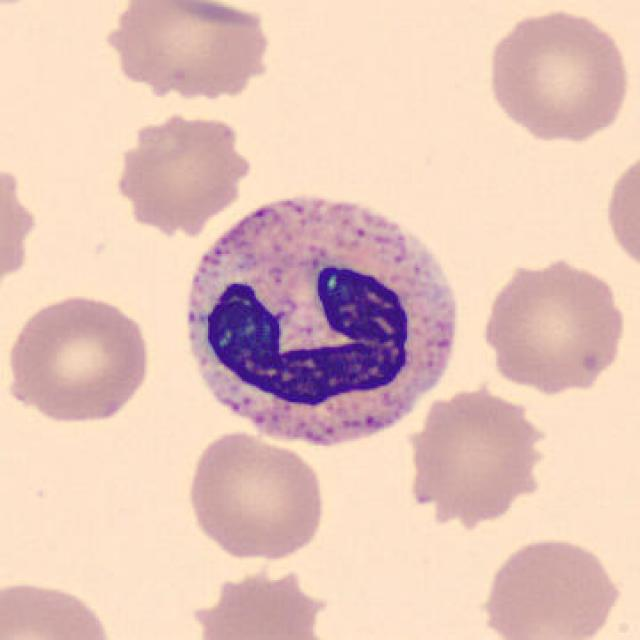Neutrophil: (169, 180, 467, 465)
RBC: (475, 250, 631, 395), (480, 5, 633, 145), (1, 289, 154, 427), (181, 428, 329, 564), (400, 385, 541, 524), (94, 0, 281, 104), (108, 108, 260, 235), (474, 532, 626, 640), (184, 567, 339, 640), (0, 573, 119, 640), (601, 143, 638, 280), (0, 157, 36, 289)
